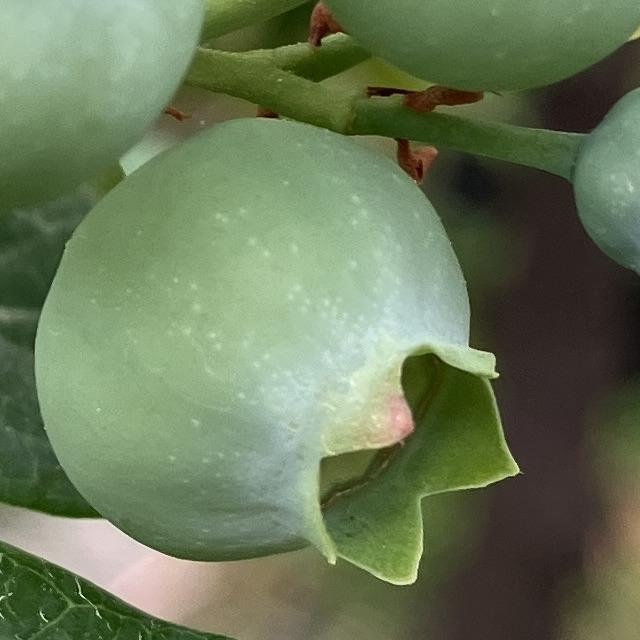Blueberries: (29, 112, 547, 607)
